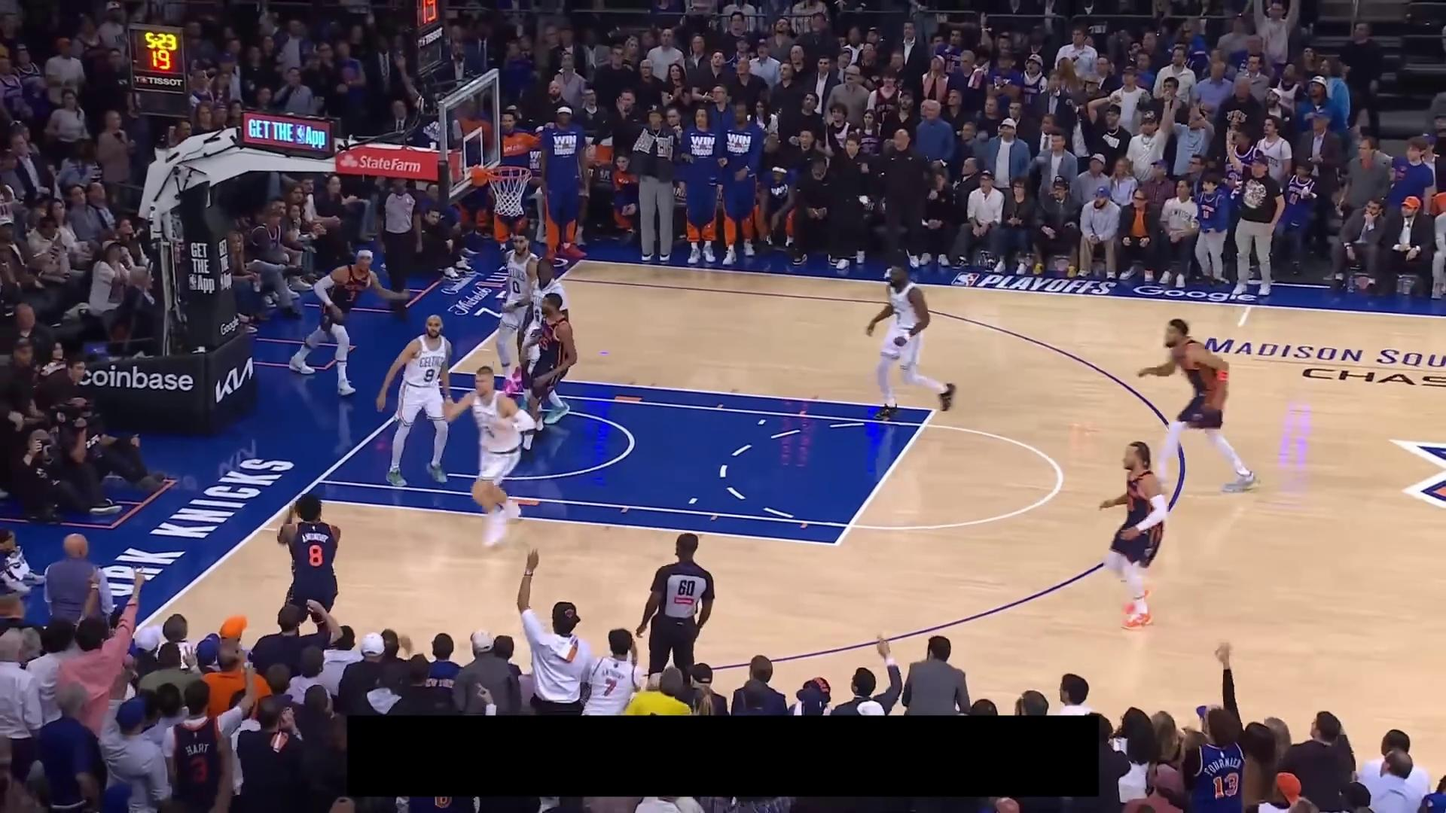number: (306, 543, 325, 570), (423, 368, 436, 382), (538, 335, 550, 350), (511, 279, 521, 295), (531, 307, 541, 323), (347, 291, 357, 302), (894, 311, 901, 325)
player: (1134, 317, 1264, 493), (439, 364, 536, 549), (372, 309, 463, 487), (1098, 439, 1176, 631), (866, 260, 959, 421), (287, 247, 378, 399), (517, 290, 580, 458), (514, 255, 571, 430), (277, 491, 345, 636), (494, 228, 542, 395)
referee: (634, 531, 716, 675), (372, 176, 426, 313)
rim: (490, 163, 531, 182)
